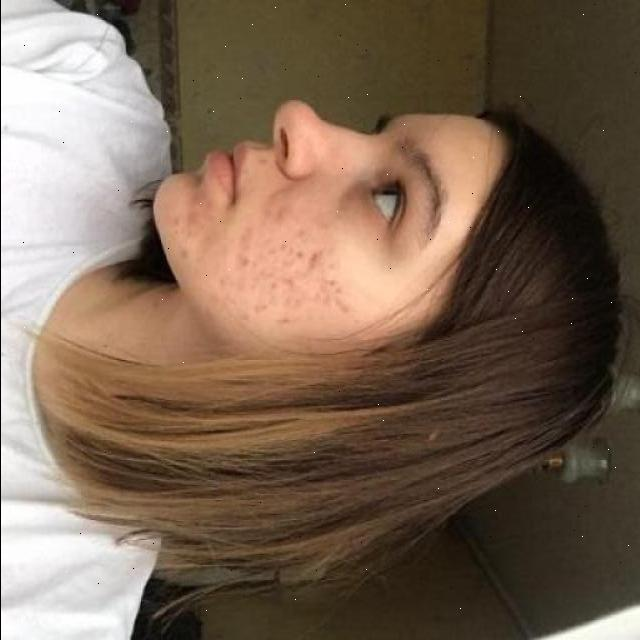Acne: (179, 192, 354, 333)
